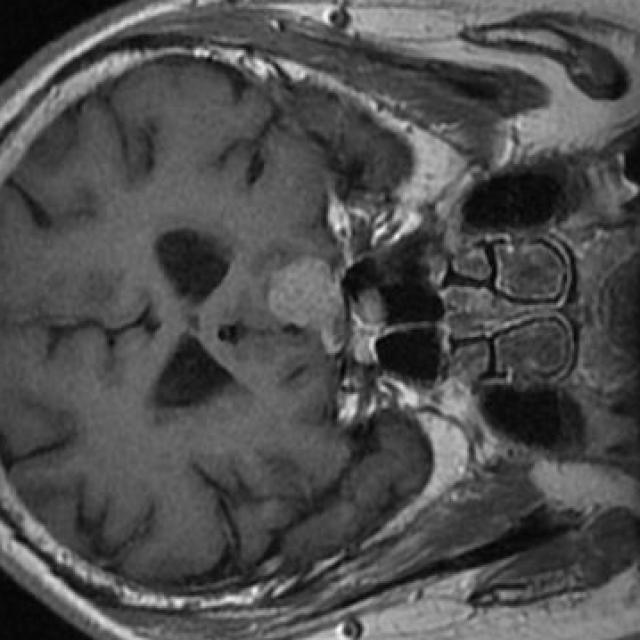pituitary: (269, 257, 385, 362)
